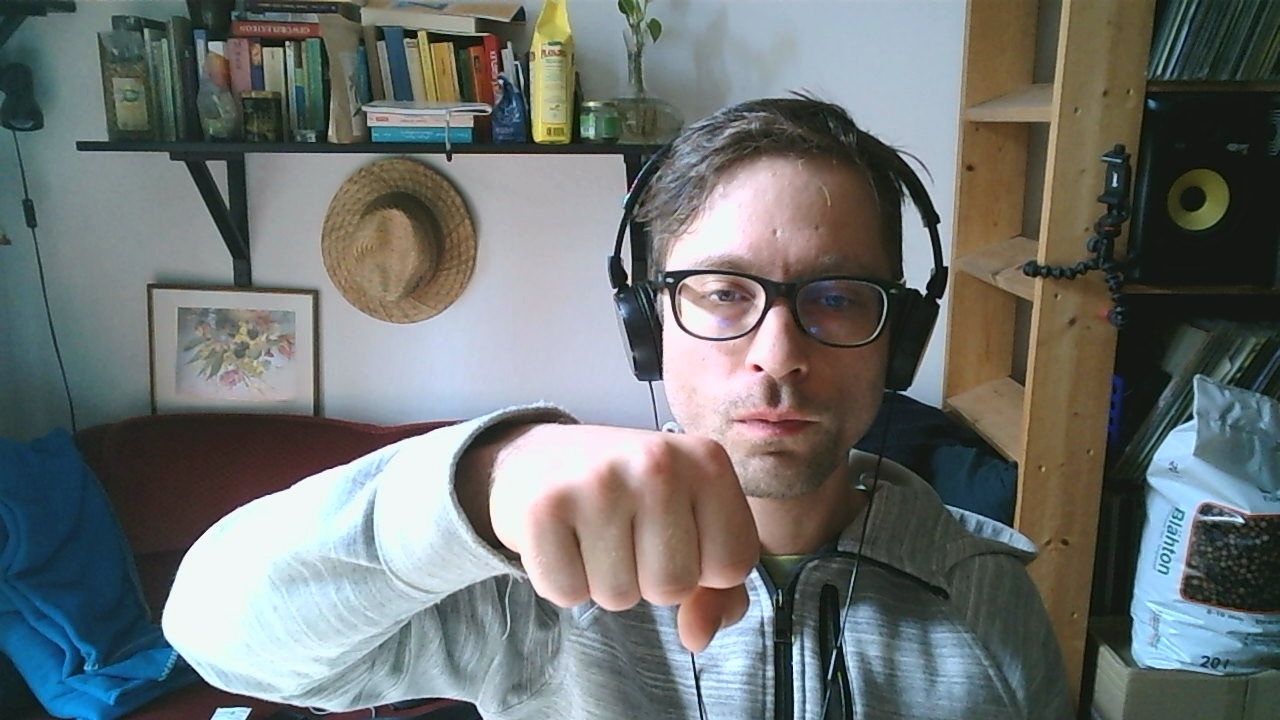yes: (505, 415, 753, 652)
